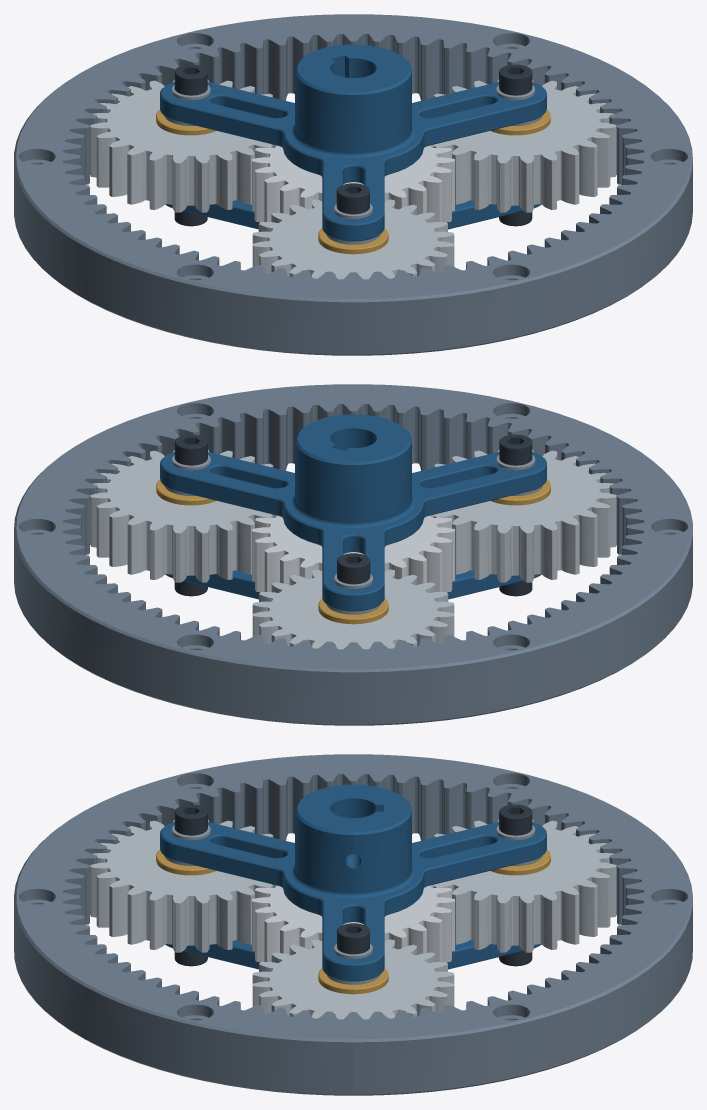
Rendered from planetary.glb.
The picture shows the model from 3 angles, top to bottom: view 1: azimuth 30°, elevation 25°; view 2: azimuth 150°, elevation 25°; view 3: azimuth 270°, elevation 25°; orthographic projection.
Parts seen in each view (by area): view 1: Internal Ring Gear, Planet Gear (×3), Carrier Front And Output Hub, Sun Gear And Input Shaft, Front Socket Screw (×3), Carrier Rear, Flanged Bushing (×3); view 2: Internal Ring Gear, Planet Gear (×3), Carrier Front And Output Hub, Sun Gear And Input Shaft, Front Socket Screw (×3), Carrier Rear, Flanged Bushing (×3); view 3: Internal Ring Gear, Planet Gear (×3), Carrier Front And Output Hub, Sun Gear And Input Shaft, Front Socket Screw (×3), Carrier Rear, Flanged Bushing (×3).
Boxes of the visible parts, x1,y1,x2,y2 form: Internal Ring Gear: (14, 14, 692, 355); Planet Gear (×3): (90, 79, 616, 279); Carrier Front And Output Hub: (160, 44, 546, 241); Sun Gear And Input Shaft: (252, 144, 454, 222); Front Socket Screw (×3): (174, 64, 532, 214); Carrier Rear: (165, 200, 541, 229); Flanged Bushing (×3): (156, 109, 550, 254); Internal Ring Gear: (14, 384, 692, 725); Planet Gear (×3): (90, 449, 616, 649); Carrier Front And Output Hub: (160, 414, 546, 611); Sun Gear And Input Shaft: (252, 514, 454, 592); Front Socket Screw (×3): (174, 434, 532, 584); Carrier Rear: (165, 570, 541, 599); Flanged Bushing (×3): (156, 479, 550, 624); Internal Ring Gear: (14, 754, 692, 1095); Planet Gear (×3): (90, 819, 616, 1019); Carrier Front And Output Hub: (160, 784, 546, 981); Sun Gear And Input Shaft: (252, 884, 454, 962); Front Socket Screw (×3): (174, 804, 532, 954); Carrier Rear: (165, 940, 541, 969); Flanged Bushing (×3): (156, 849, 550, 994).
Bounding box in the file's own units: 0.1739 × 0.068 × 0.174.
